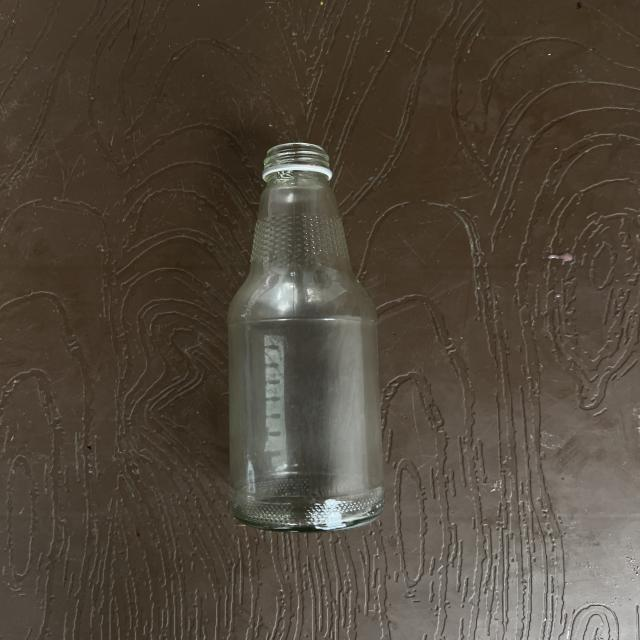Glass_Bottle: (228, 143, 383, 531)
